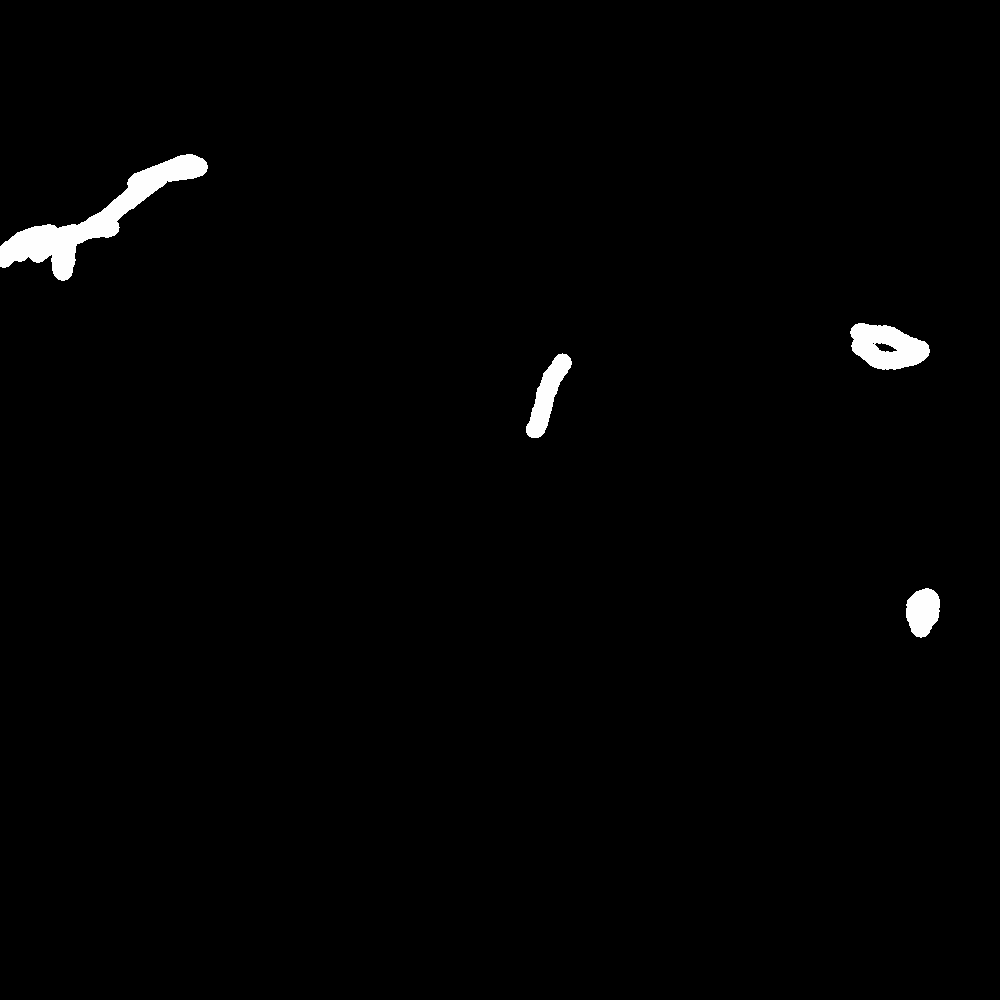illegal: (1, 213, 96, 264), (909, 599, 937, 648)
